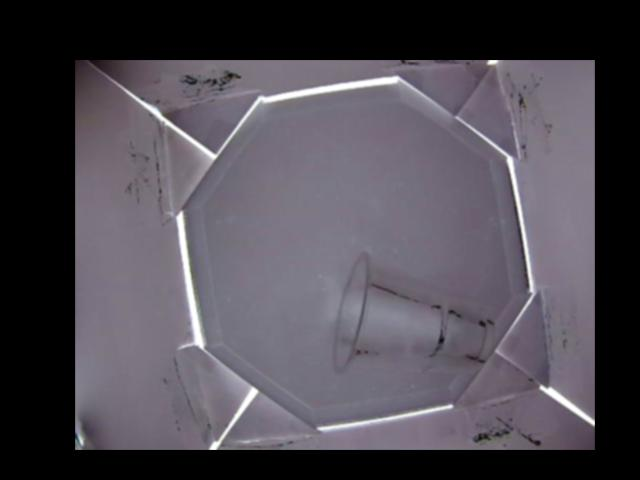Cup: (332, 250, 498, 375)
